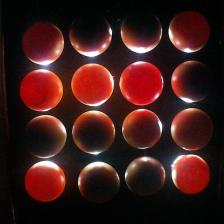fertile: (22, 114, 67, 160), (72, 110, 115, 155), (120, 9, 163, 54), (77, 161, 121, 204), (170, 108, 214, 151), (69, 13, 112, 57), (22, 21, 64, 66), (170, 61, 214, 102), (168, 11, 210, 53), (124, 155, 166, 196), (121, 108, 163, 149)
infertile: (119, 61, 164, 106), (19, 69, 64, 112), (71, 63, 114, 107), (25, 161, 66, 202), (171, 154, 211, 194)
